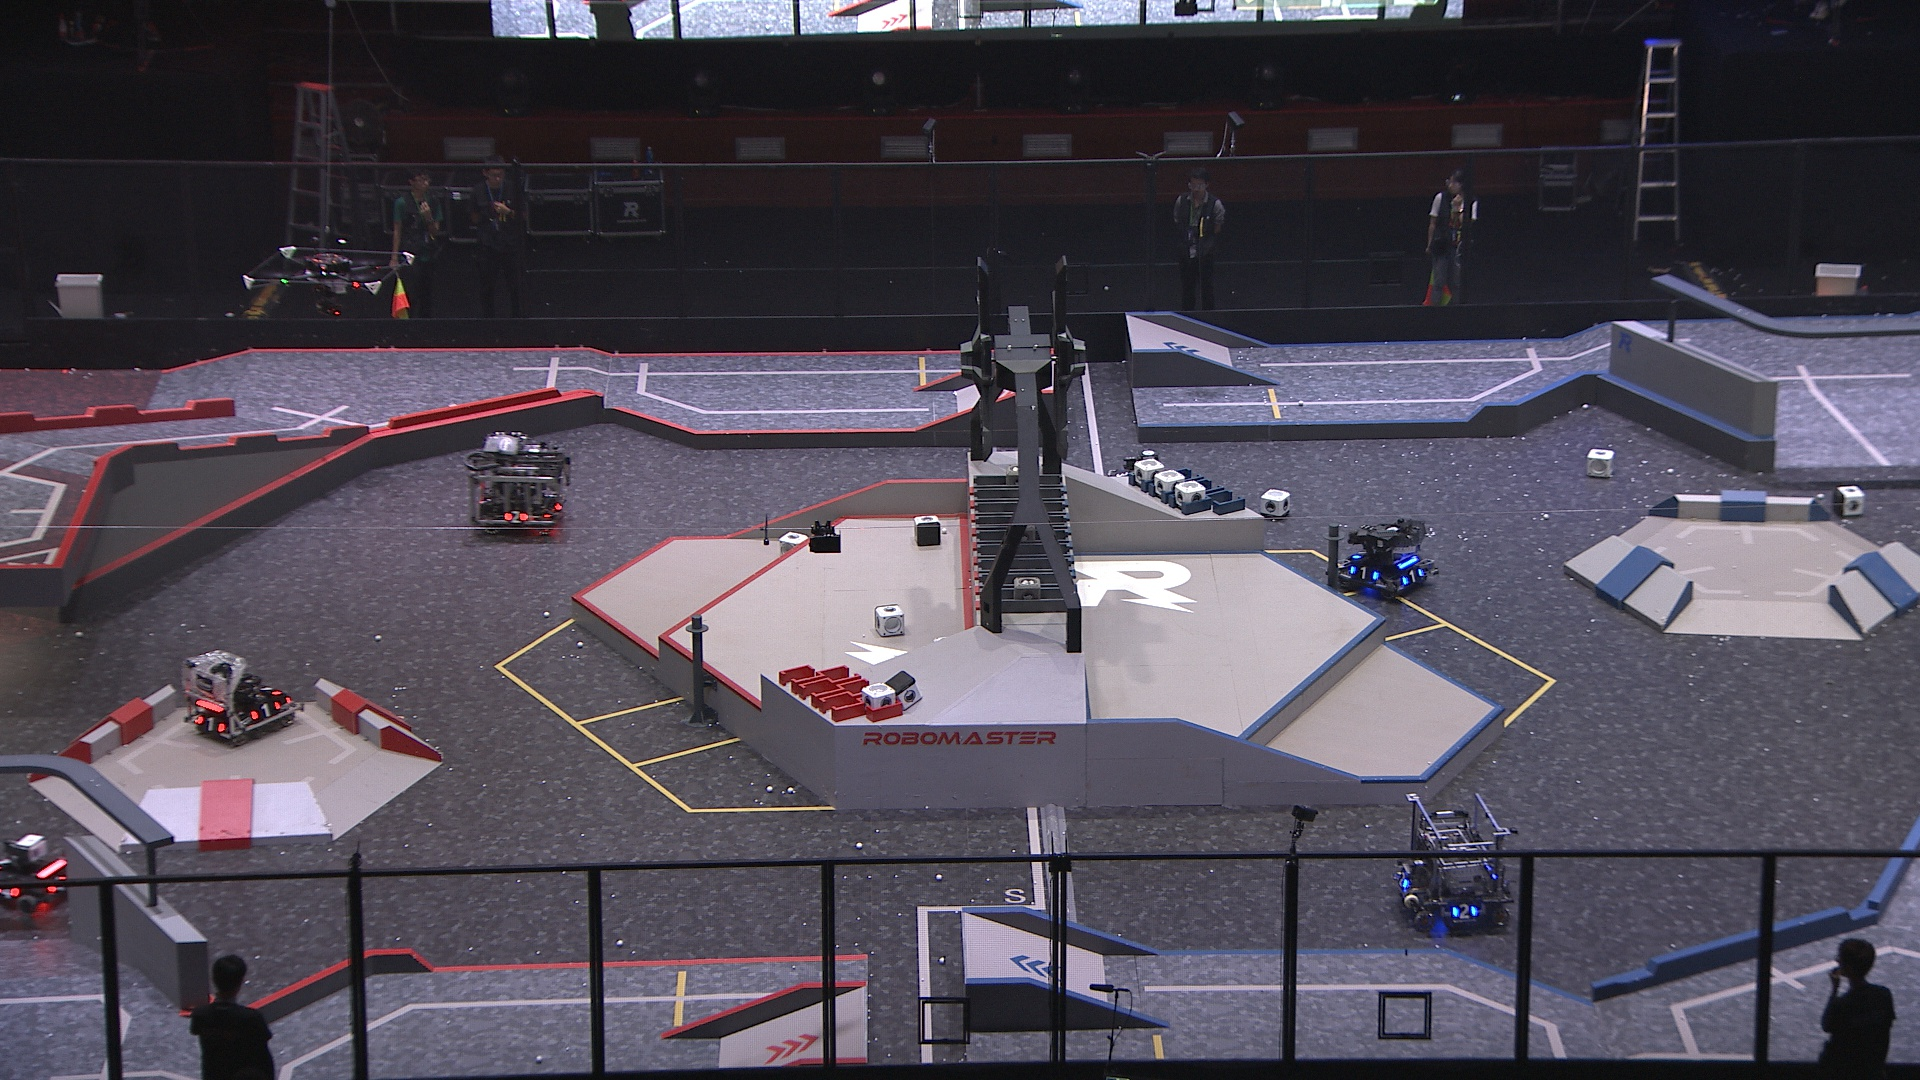armor: (193, 713, 231, 737), (248, 698, 282, 721), (1346, 560, 1382, 583), (1447, 898, 1480, 920), (500, 505, 531, 527), (1399, 564, 1428, 585), (47, 874, 69, 901), (258, 679, 284, 700), (1395, 866, 1414, 891)
car: (1395, 787, 1515, 930), (177, 647, 305, 746), (463, 429, 567, 541), (1321, 518, 1441, 604)
